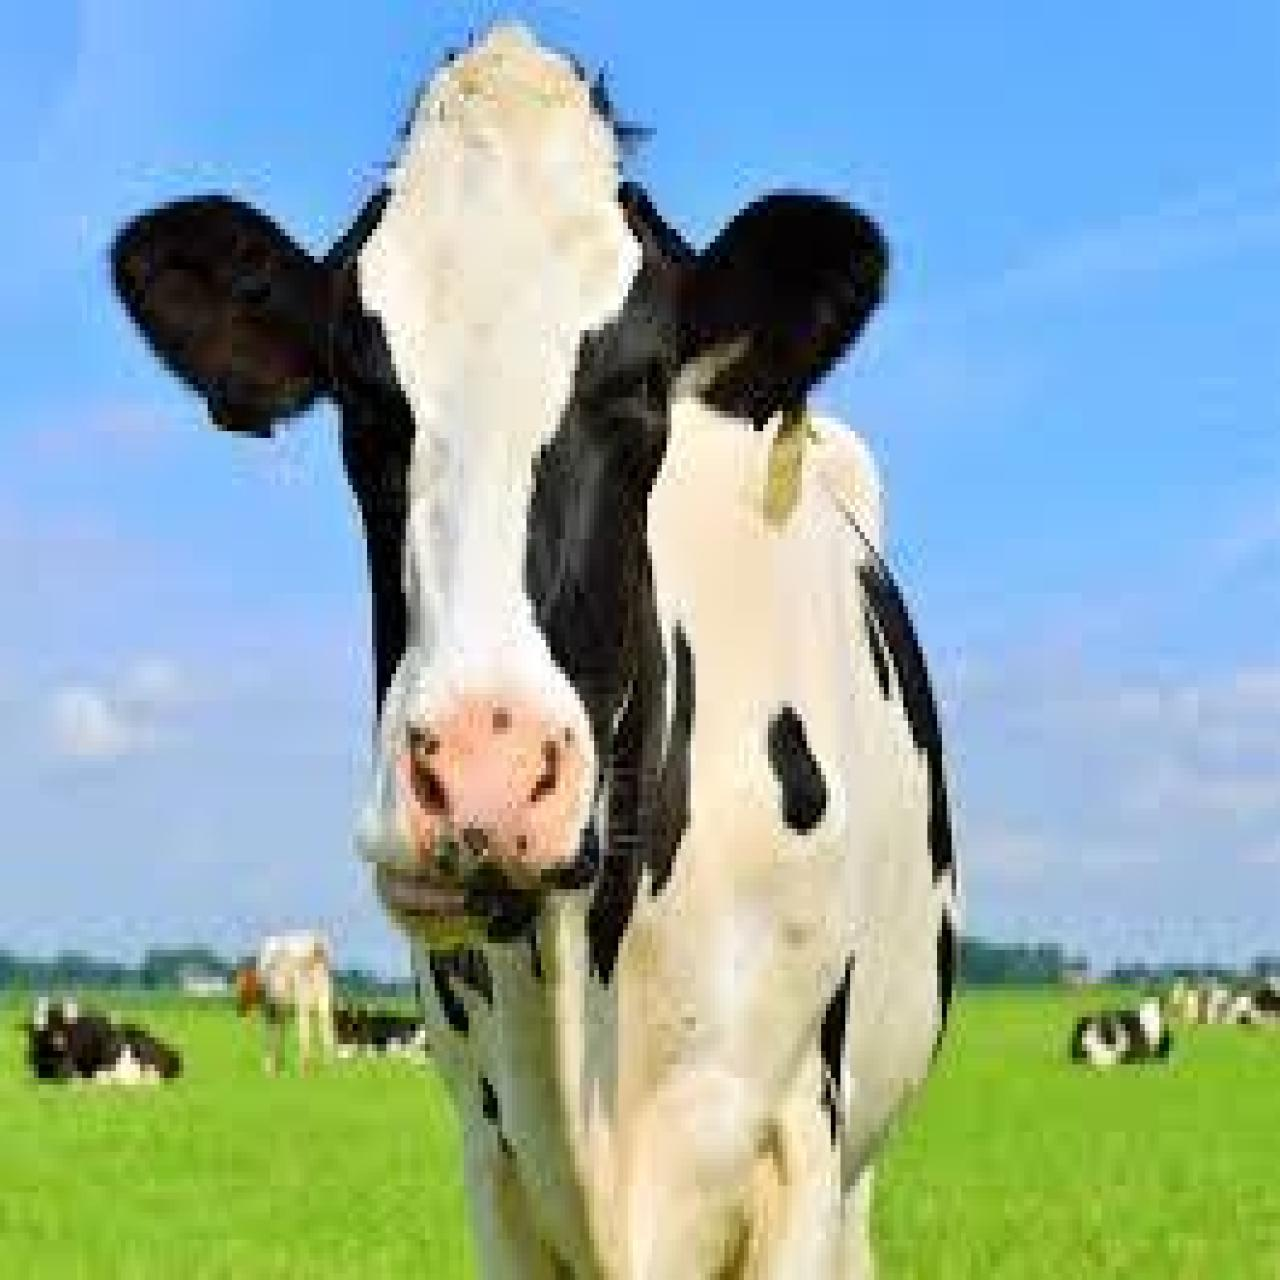cow: (114, 34, 959, 1273), (18, 994, 181, 1095), (232, 930, 339, 1078), (1067, 1000, 1169, 1068), (335, 1007, 428, 1068)
